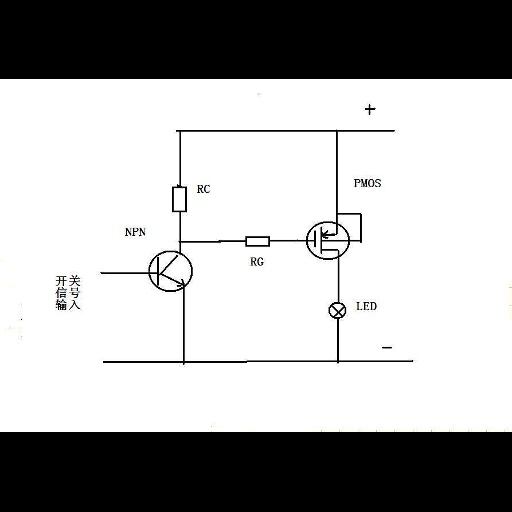firstresistance: (170, 182, 189, 216), (241, 232, 274, 251)
light: (328, 302, 349, 320)
mos: (312, 228, 338, 255)
npn: (153, 253, 187, 290)
